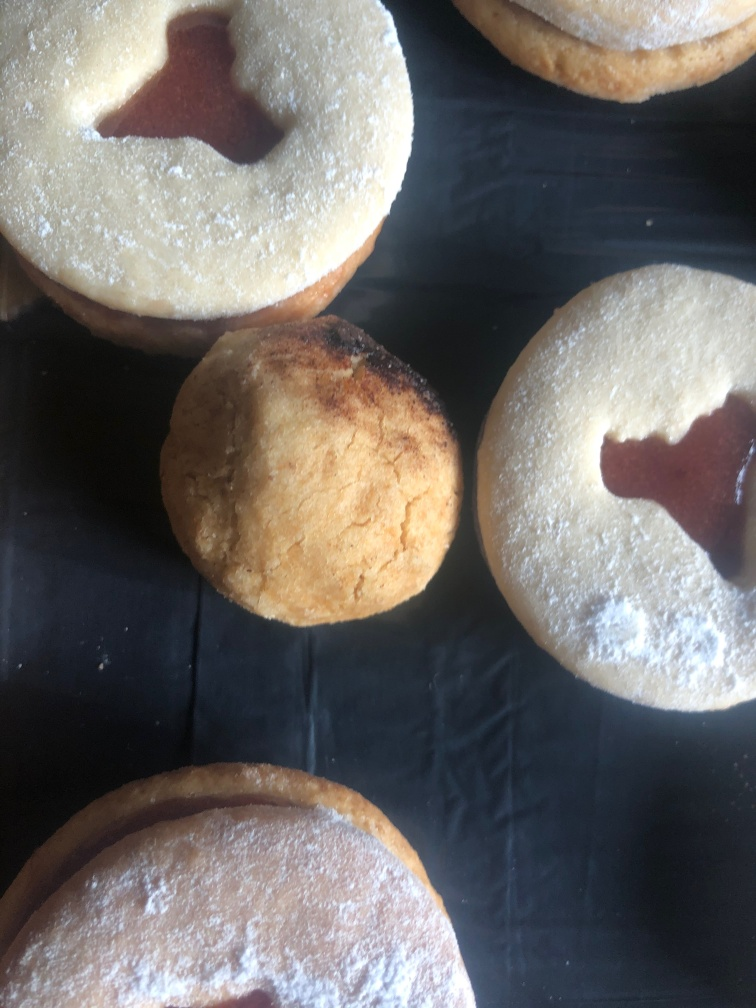christmas shortbread with jam: (1, 1, 417, 350), (476, 259, 756, 720), (8, 775, 478, 1008)
snowball: (156, 316, 466, 638)
